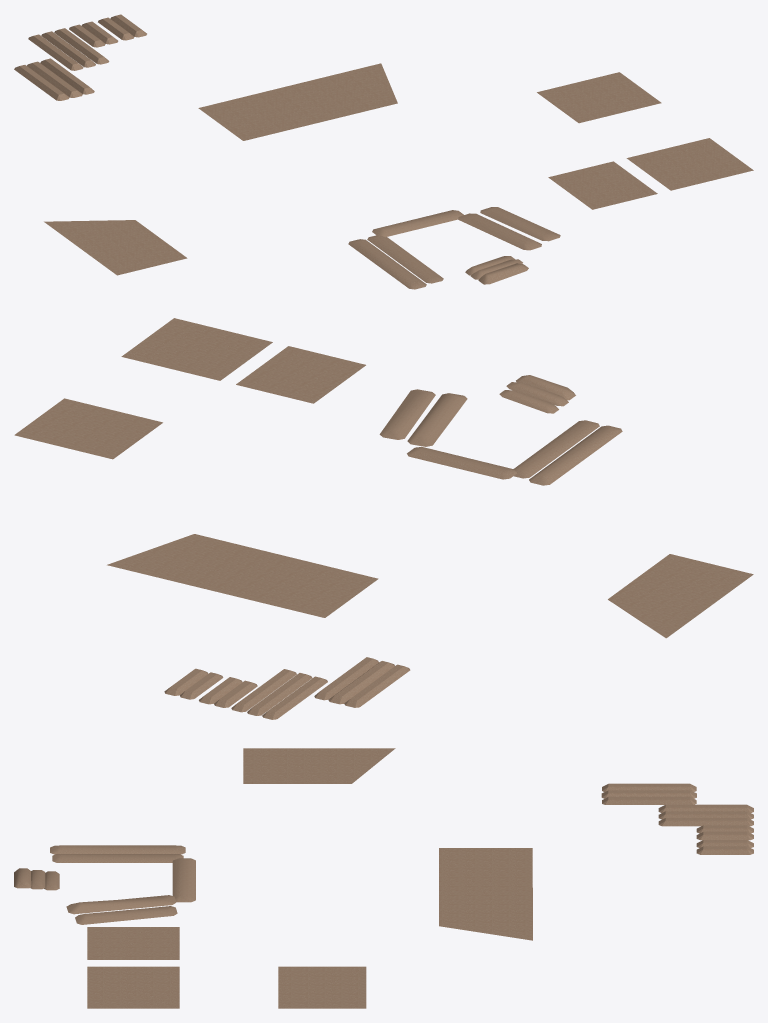
The model's file is kd_stage_136282_1_15.glb.
The picture shows the model from 3 angles, top to bottom: view 1: azimuth 30°, elevation 25°; view 2: azimuth 150°, elevation 25°; view 3: azimuth 270°, elevation 25°; orthographic projection. The views are drawn at different scales.
Visible parts, largest first — view 1: kd_stage_136282_1_15; view 2: kd_stage_136282_1_15; view 3: kd_stage_136282_1_15.
Part boxes in pixels (x1,y1,x2,y2): kd_stage_136282_1_15: (14, 14, 753, 289); kd_stage_136282_1_15: (14, 318, 753, 719); kd_stage_136282_1_15: (14, 748, 753, 1008).
Bounding box in the file's own units: 30.64 × 1.2 × 33.7.
Materials: 1 (1 with a texture image).
